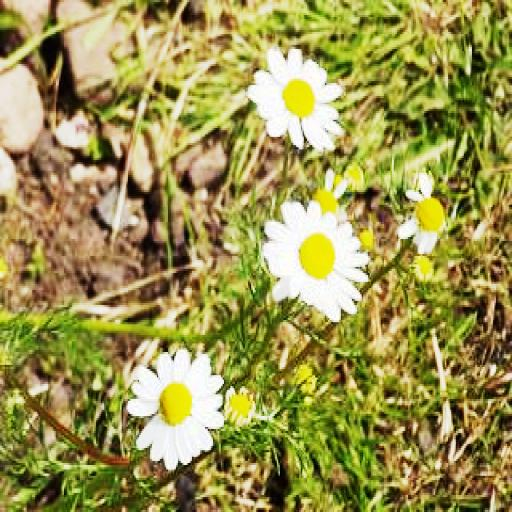daisy: (256, 199, 368, 322), (120, 344, 226, 467), (250, 45, 340, 156), (405, 175, 443, 267)
